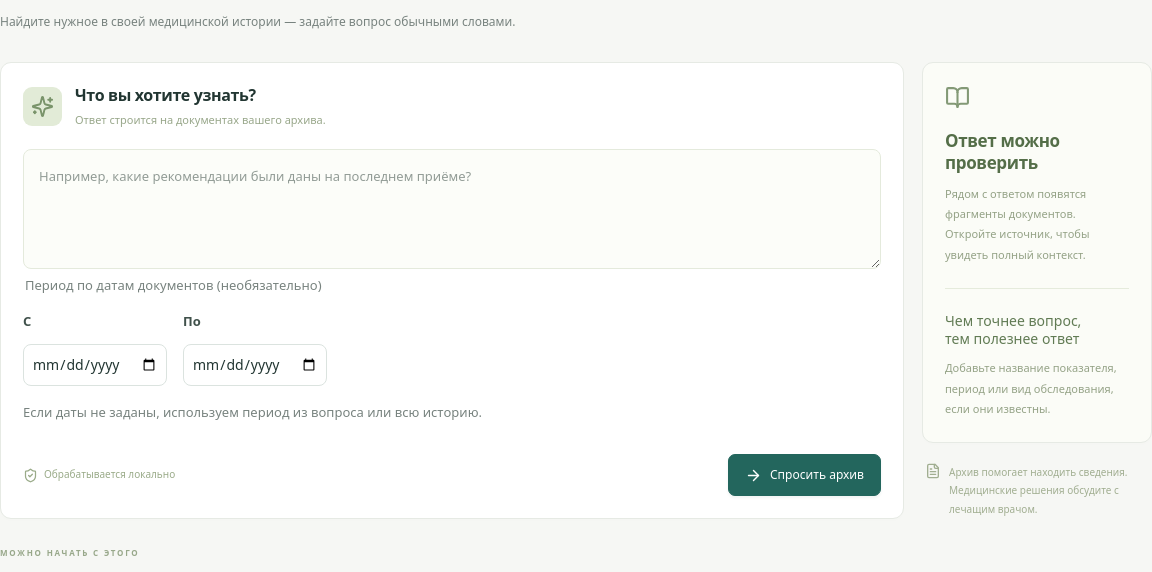
Scenario: sends selected dates and displays incomplete coverage instead of silently claiming a complete answer
The image size is (1152, 572).
Type "Какие отклонения?" into the text box named "Вопрос к архиву". click: (452, 209)
box: [23,149,881,269]
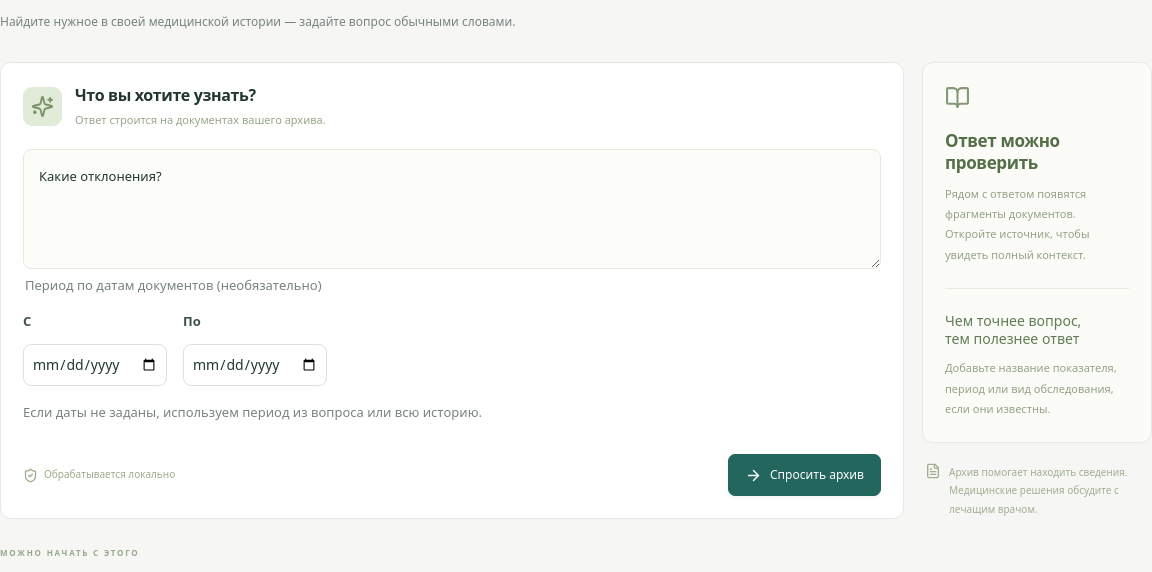
Type "2025-09-24" into the date field labelled "С". click: (95, 365)
box: [23,344,167,386]
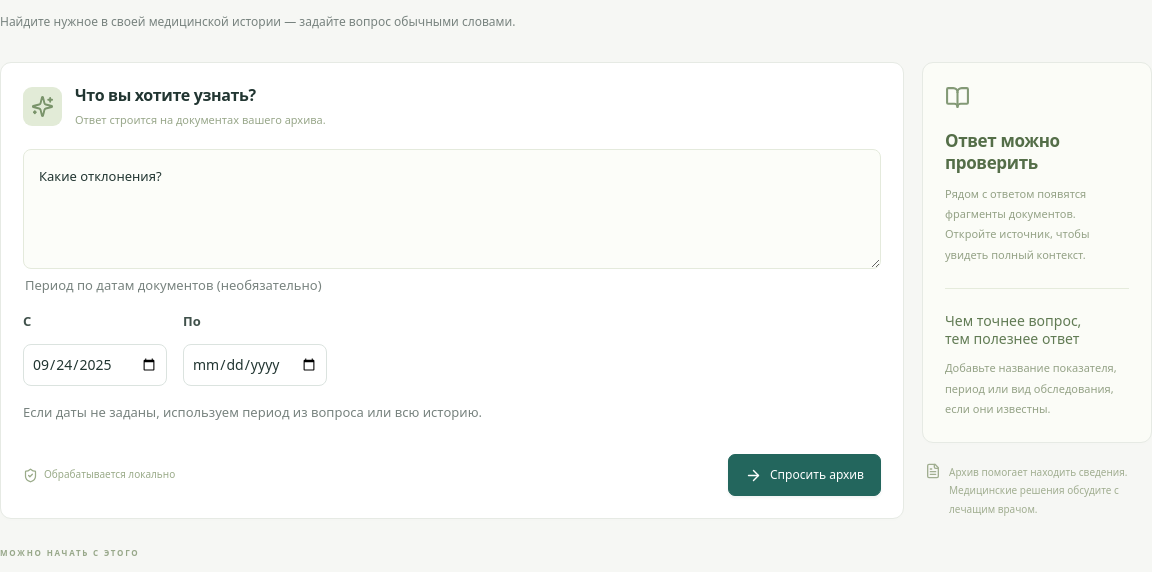
Type "2026-09-24" into the date field labelled "По". click: (255, 365)
box: [183,344,327,386]
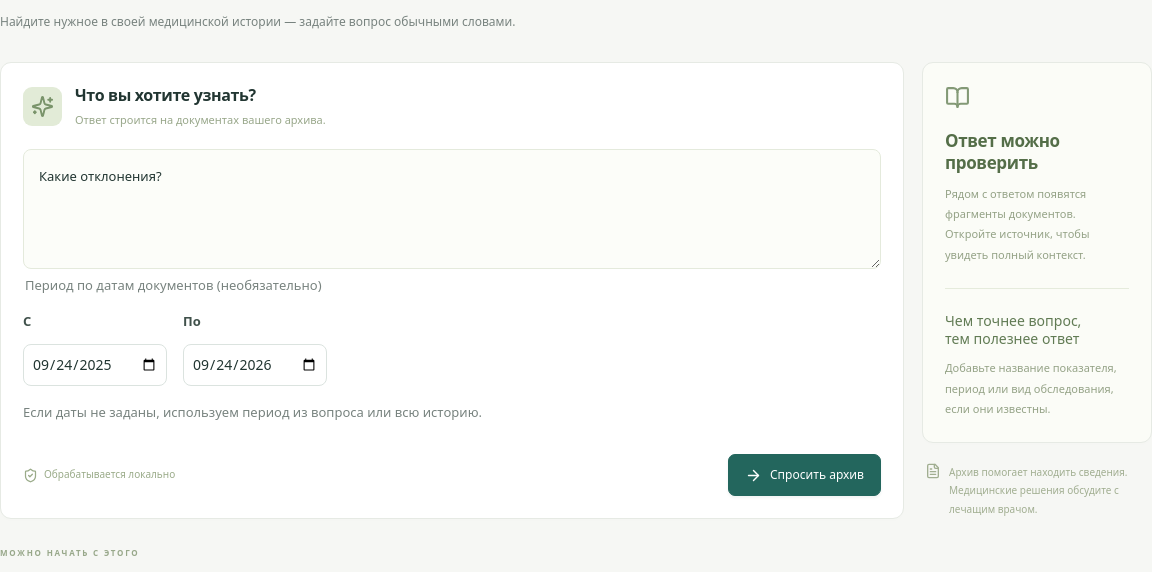
Click the button "Спросить архив". click: (804, 475)
box: [728,454,881,496]
(page scrolled)
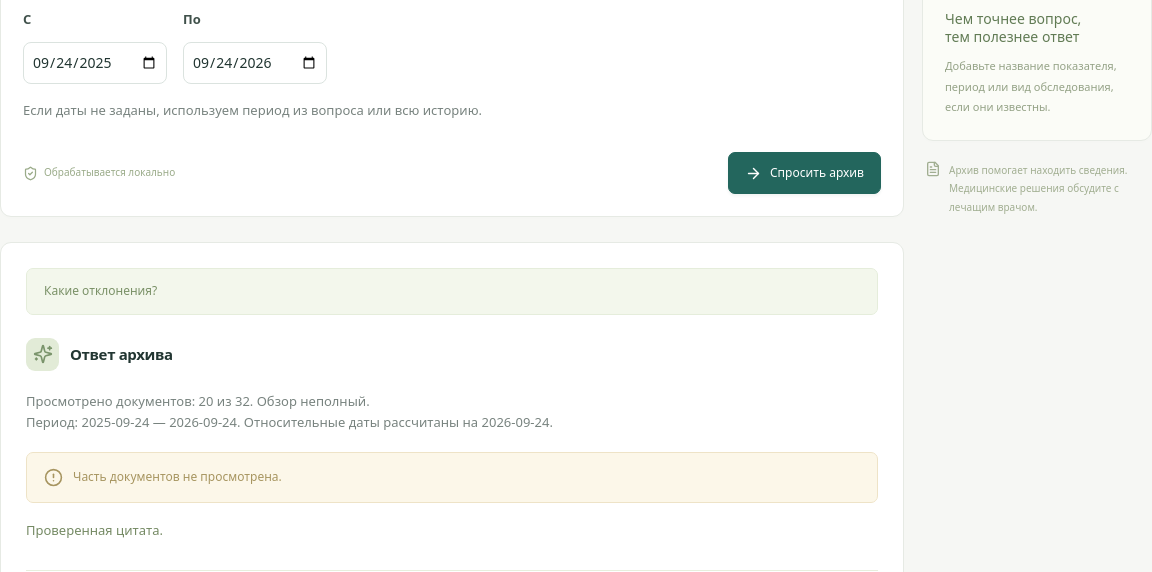
expect the text "Просмотрено документов: 20 из 32. Обзор неполный." is shown: met, box [26,392,370,410]
expect the text "Часть документов не просмотрена." is shown: met, box [73,468,282,485]
